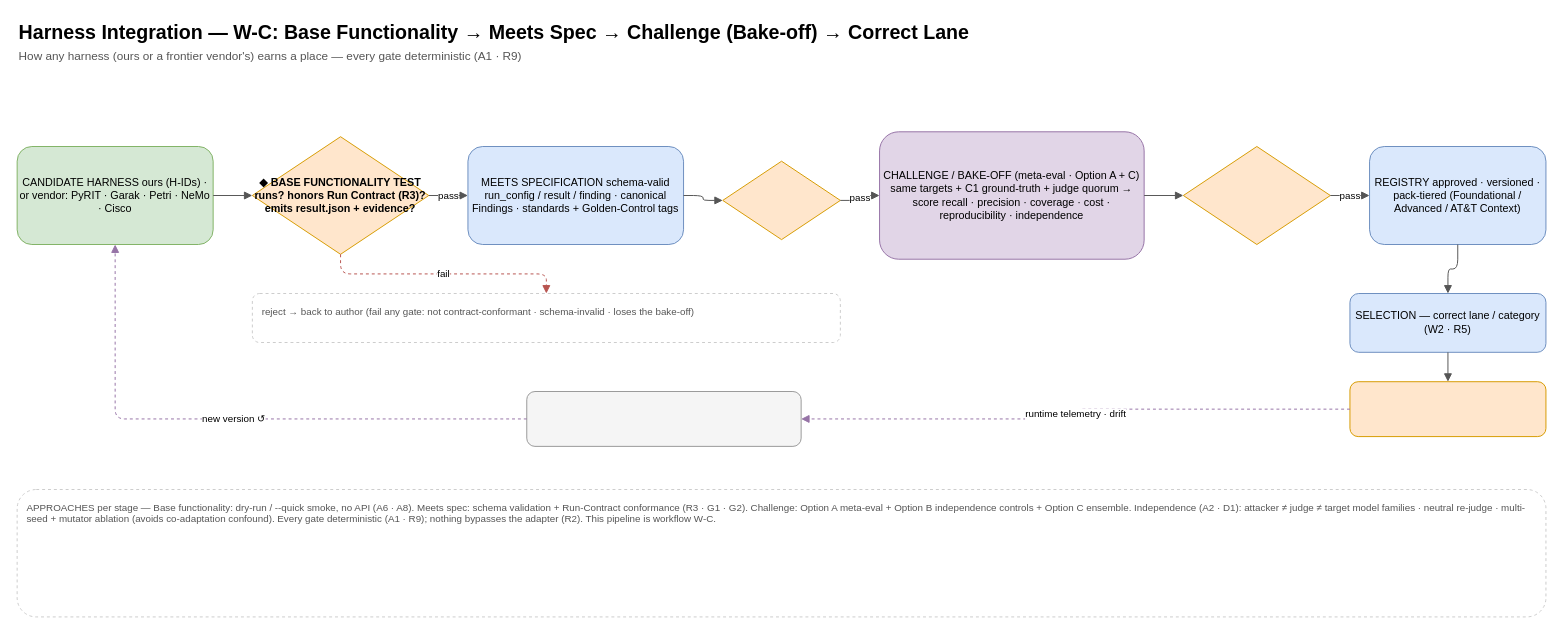
The diagram is 1563 pixels wide and 634 high, and some of its shapes have lost their labels. Here are the shapes that lost their labels. From the top down, the centre of each, then its label:
the point at 781,200: ◆ Spec Pass
the point at 1256,195: ◆ Challenge Pass (best-of-each)
the point at 663,418: EVOLVE / RE-CHALLENGE on new version
the point at 1447,409: ◆ DETERMINISTIC GATE (R9)
